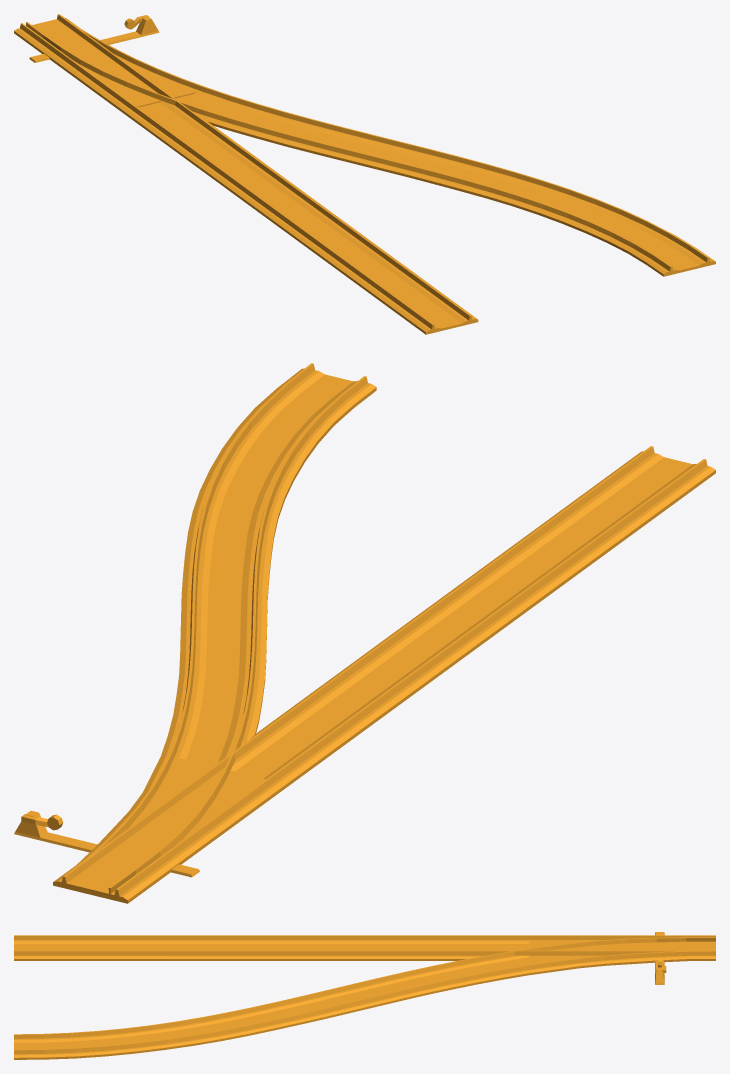
Rendered from SM_Train_Rail_Switch_Platform_Collider.fbx.
The picture shows the model from 3 angles, top to bottom: view 1: azimuth 30°, elevation 25°; view 2: azimuth 150°, elevation 25°; view 3: azimuth 270°, elevation 25°; orthographic projection. The views are drawn at different scales.
Visible parts, largest first — view 1: SM_Train_Rail_Switch_Platform_Collider; view 2: SM_Train_Rail_Switch_Platform_Collider; view 3: SM_Train_Rail_Switch_Platform_Collider.
Part boxes in pixels (left/top/right/bottom): SM_Train_Rail_Switch_Platform_Collider: left=14, top=14, right=715, bottom=334; SM_Train_Rail_Switch_Platform_Collider: left=14, top=363, right=715, bottom=903; SM_Train_Rail_Switch_Platform_Collider: left=14, top=932, right=715, bottom=1059.
Size of the model in its own units: 12.82 by 0.697 by 30.
